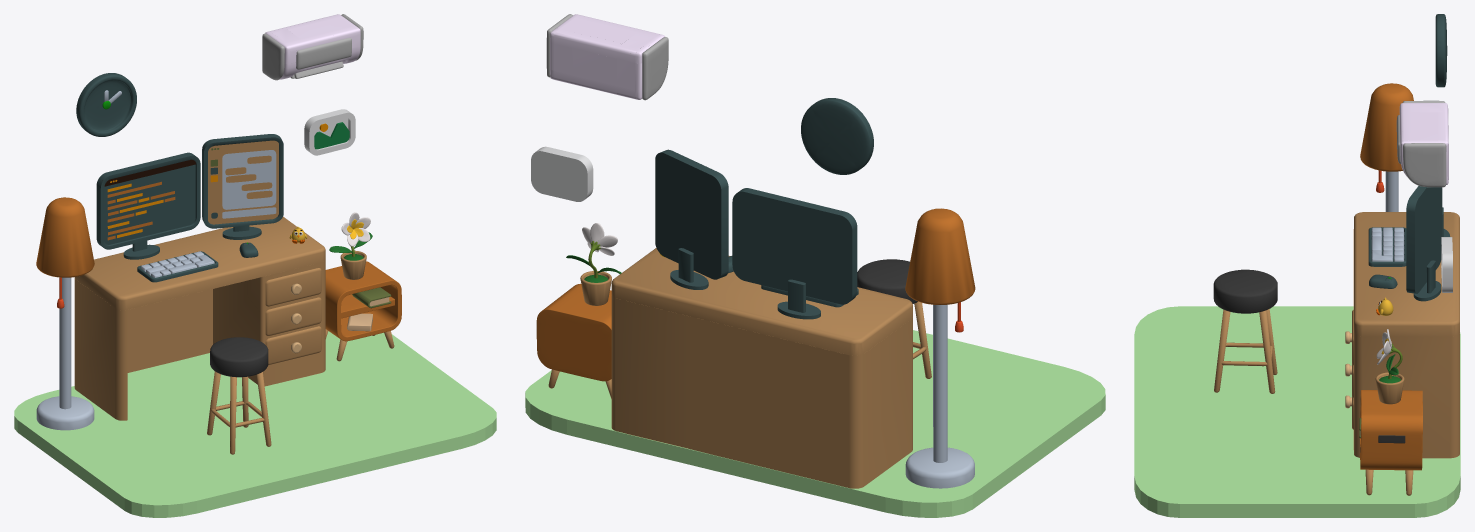
The model's file is office-3d-2223.glb.
3 renders of one model, left to right at view 1: azimuth 30°, elevation 25°; view 2: azimuth 150°, elevation 25°; view 3: azimuth 270°, elevation 25°, orthographic. The views are drawn at different scales.
Visible parts, largest first — view 1: Plane, Table, Monitor - 1, Stand-lamp, Monitor - 2, Chair, Meez, Wall-Clock, AC, Plane.001, Wall-Picture, FlowerPot (+4 smaller); view 2: Table, Plane, Monitor - 1, Stand-lamp, Monitor - 2, AC, Meez, Wall-Clock, Wall-Picture, Chair, FlowerPot, Cube.015; view 3: Plane, Table, Meez, Chair, Monitor - 2, Stand-lamp, AC, Cube.015, Keyboard, FlowerPot, Wall-Clock, Wall-Picture (+1 smaller).
Part boxes in pixels (bbox=[...]): Plane: bbox=[14, 331, 496, 517]; Table: bbox=[74, 216, 325, 420]; Monitor - 1: bbox=[96, 152, 200, 259]; Stand-lamp: bbox=[36, 197, 94, 430]; Monitor - 2: bbox=[202, 134, 283, 239]; Chair: bbox=[207, 337, 271, 454]; Meez: bbox=[325, 261, 401, 341]; Wall-Clock: bbox=[76, 73, 136, 136]; AC: bbox=[265, 14, 360, 79]; Plane.001: bbox=[222, 150, 276, 209]; Wall-Picture: bbox=[304, 109, 355, 155]; FlowerPot: bbox=[329, 212, 372, 279]; Table: bbox=[611, 248, 912, 488]; Plane: bbox=[525, 330, 1105, 517]; Monitor - 1: bbox=[732, 188, 857, 319]; Stand-lamp: bbox=[905, 208, 975, 488]; Monitor - 2: bbox=[655, 149, 728, 289]; AC: bbox=[550, 14, 664, 99]; Meez: bbox=[536, 283, 611, 381]; Wall-Clock: bbox=[801, 98, 873, 174]; Wall-Picture: bbox=[531, 146, 593, 201]; Chair: bbox=[857, 259, 931, 378]; FlowerPot: bbox=[566, 223, 621, 305]; Cube.015: bbox=[546, 14, 668, 100]; Plane: bbox=[1134, 306, 1460, 517]; Table: bbox=[1345, 212, 1459, 458]; Meez: bbox=[1360, 390, 1422, 470]; Chair: bbox=[1213, 269, 1277, 393]; Monitor - 2: bbox=[1406, 186, 1442, 301]; Stand-lamp: bbox=[1360, 83, 1413, 211]; AC: bbox=[1399, 103, 1448, 184]; Cube.015: bbox=[1402, 100, 1446, 187]; Keyboard: bbox=[1368, 227, 1406, 266]; FlowerPot: bbox=[1375, 329, 1404, 404]; Wall-Clock: bbox=[1435, 14, 1447, 87]; Wall-Picture: bbox=[1441, 237, 1452, 292].
Bounding box in the file's own units: 3.33 × 2.82 × 2.32.
